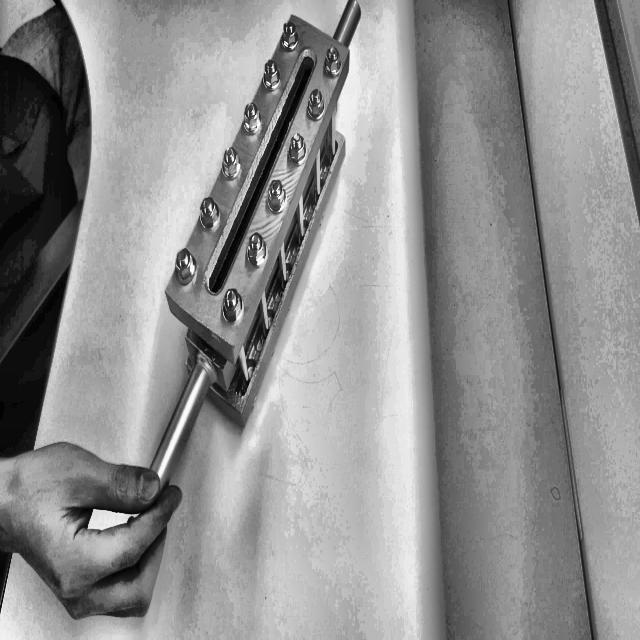ShuiWeiQi_12: (140, 11, 363, 463)
